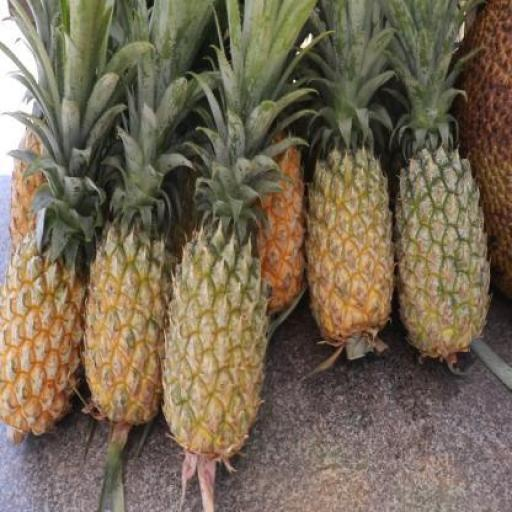------------------------------: (164, 227, 267, 450)
Pineapple - v8 v1: (85, 229, 177, 427), (0, 238, 85, 445), (305, 155, 392, 350), (13, 122, 78, 276)
